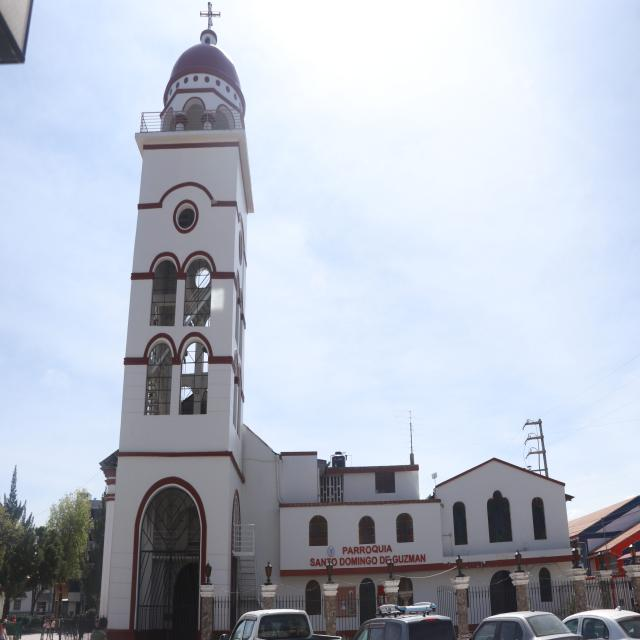CAMPANARIO: (122, 128, 254, 462)
CUPULA: (149, 28, 253, 126)
TORRES: (107, 10, 242, 628)
colonial-architecture-: (95, 0, 595, 624)
